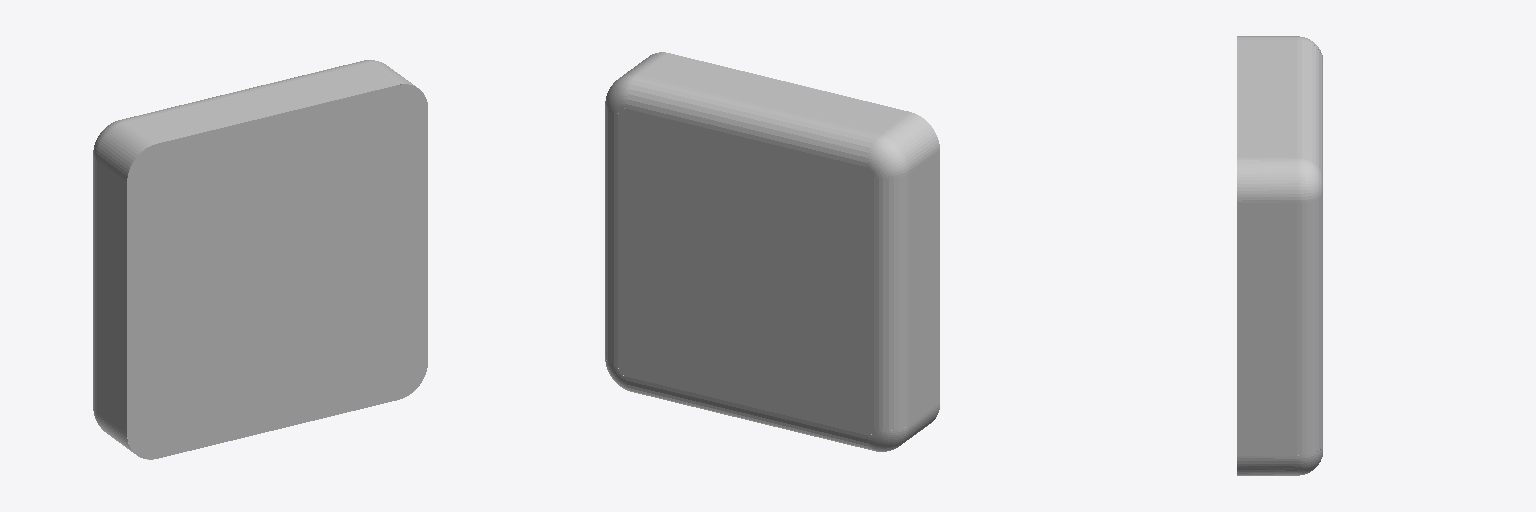
The model's file is Platform.obj.
The picture shows the model from 3 angles: view 1: azimuth 30°, elevation 25°; view 2: azimuth 150°, elevation 25°; view 3: azimuth 270°, elevation 25°; orthographic projection.
Visible parts, largest first — view 1: object_2, object_3, object_13, object_19, object_1, object_12, object_5, object_11; view 2: object_20, object_5, object_11, object_13, object_19, object_7, object_9, object_12, object_4, object_6, object_10; view 3: object_17, object_19, object_9, object_11, object_18, object_16, object_10.
Part boxes in pixels (left/top/right/bottom): object_2: left=165, top=131, right=390, bottom=412; object_3: left=127, top=84, right=427, bottom=459; object_13: left=97, top=161, right=126, bottom=433; object_19: left=127, top=63, right=397, bottom=143; object_1: left=157, top=123, right=397, bottom=420; object_12: left=97, top=122, right=156, bottom=181; object_5: left=93, top=156, right=96, bottom=411; object_11: left=122, top=61, right=366, bottom=120; object_20: left=618, top=108, right=873, bottom=434; object_5: left=874, top=173, right=909, bottom=430; object_11: left=626, top=76, right=878, bottom=166; object_13: left=910, top=151, right=939, bottom=424; object_19: left=639, top=53, right=908, bottom=133; object_7: left=626, top=377, right=870, bottom=449; object_9: left=605, top=107, right=617, bottom=366; object_12: left=881, top=112, right=939, bottom=172; object_4: left=867, top=134, right=909, bottom=178; object_6: left=867, top=425, right=909, bottom=451; object_10: left=605, top=75, right=638, bottom=113; object_17: left=1237, top=203, right=1296, bottom=455; object_19: left=1237, top=40, right=1296, bottom=156; object_9: left=1297, top=195, right=1322, bottom=455; object_11: left=1297, top=40, right=1322, bottom=174; object_18: left=1237, top=157, right=1296, bottom=202; object_16: left=1237, top=456, right=1296, bottom=475; object_10: left=1297, top=157, right=1322, bottom=202.
Bounding box in the file's own units: 10 × 10 × 2.5.